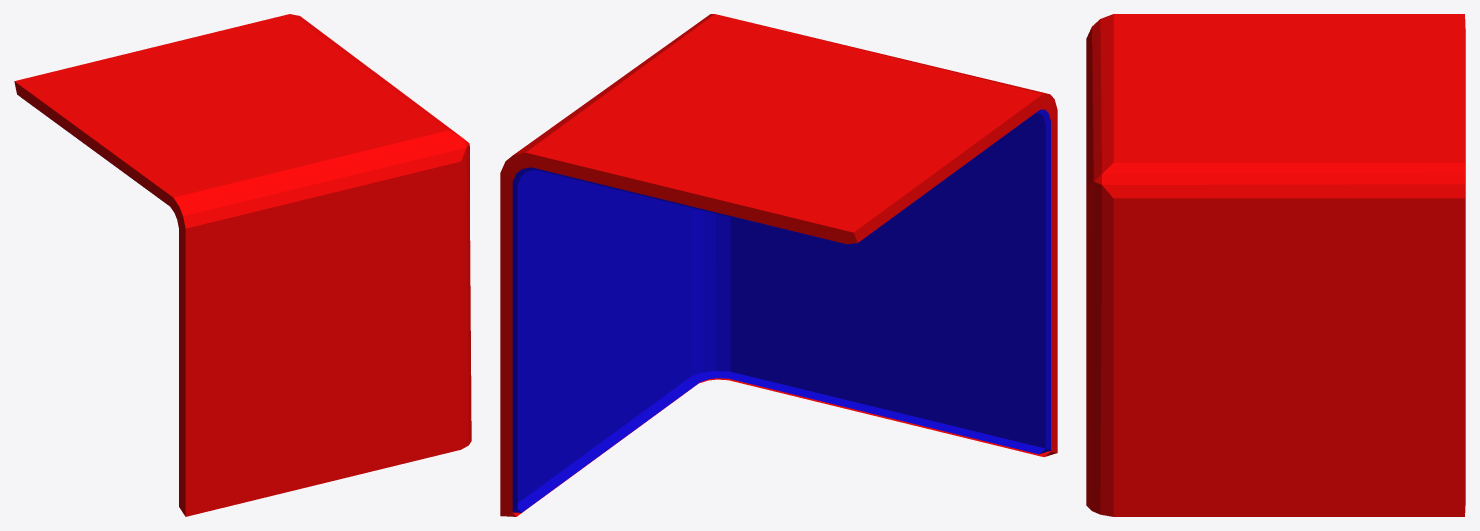
File: frame-corner3.glb
3 renders of one model, left to right at view 1: azimuth 30°, elevation 25°; view 2: azimuth 150°, elevation 25°; view 3: azimuth 270°, elevation 25°, orthographic. The views are drawn at different scales.
Parts seen in each view (by area): view 1: corner.006; view 2: corner.006; view 3: corner.006.
Part boxes in pixels (x1,y1,x2,y2): corner.006: (14,14,471,516); corner.006: (500,14,1057,516); corner.006: (1086,14,1465,516).
Size of the model in its own units: 1.04 by 1.04 by 1.04.
